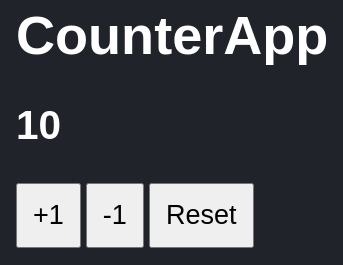
Pruebas en <CounterApp /> › debe de decrementar con el botón -1
Click the button "-1": {"x": 115, "y": 216} [86,183,144,248]
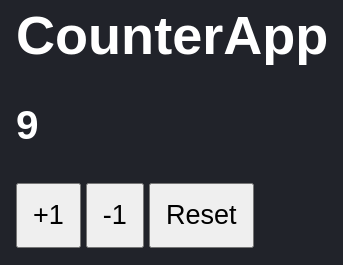
Expected: the heading "9" is shown, [16,102,39,148]
